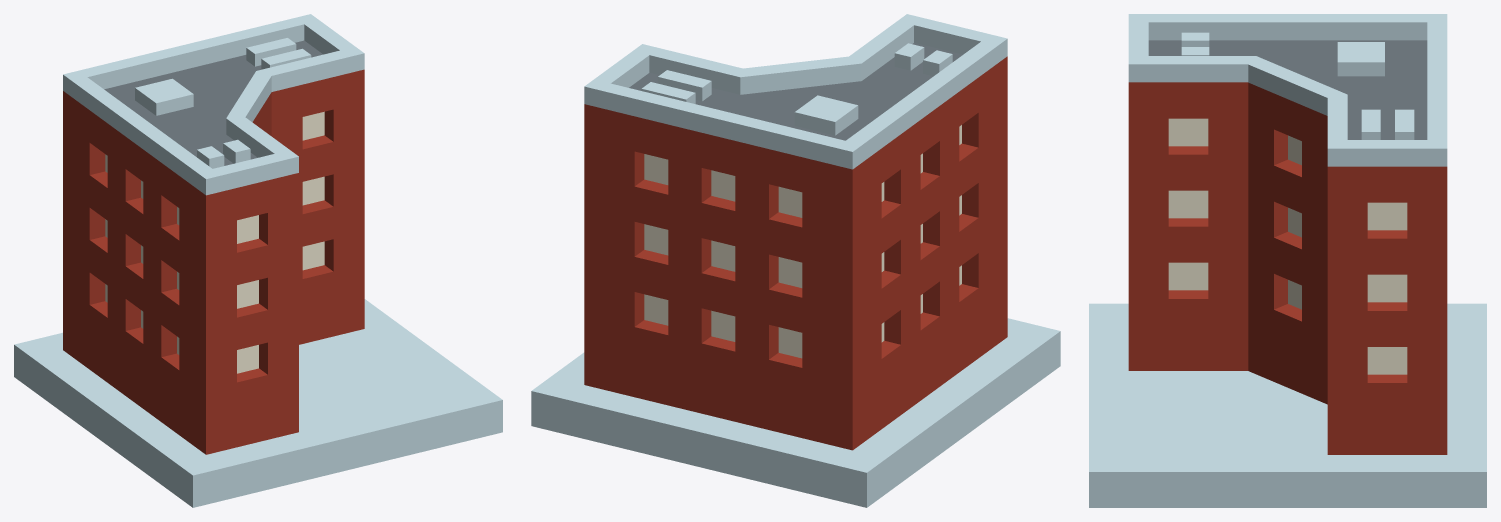
The model's file is Building_8_Base_Extra (Red).obj.
3 renders of one model, left to right at view 1: azimuth 30°, elevation 25°; view 2: azimuth 150°, elevation 25°; view 3: azimuth 270°, elevation 25°, orthographic. The views are drawn at different scales.
Parts seen in each view (by area): view 1: Building_8_Base_Extra_(Red); view 2: Building_8_Base_Extra_(Red); view 3: Building_8_Base_Extra_(Red).
Boxes of the visible parts, bbox=[...] form: Building_8_Base_Extra_(Red): bbox=[14, 14, 502, 507]; Building_8_Base_Extra_(Red): bbox=[531, 14, 1060, 507]; Building_8_Base_Extra_(Red): bbox=[1089, 14, 1486, 507].
Size of the model in its own units: 2 by 1.9 by 2.
